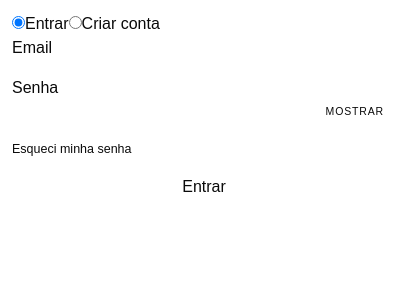
Scenario: LoginForm — modo Entrar › clicar em "Confirmar cadastro" abre a tela de confirmação com o email do login e dispara reenvio automático
In the field labelled "Email": (156, 48) [52,36,259,60], type "neto@email.com"
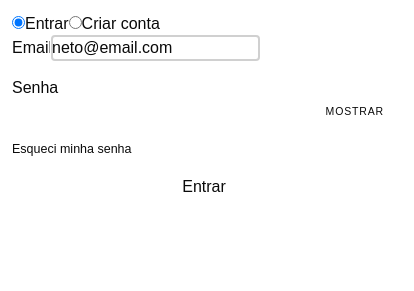
In the password field labelled "Senha": (204, 112) [12,100,396,124], type "Senha123"
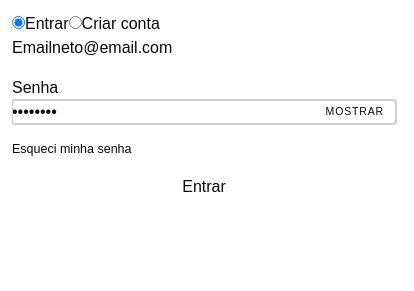
Click the button "Entrar": (204, 187) [12,175,396,199]
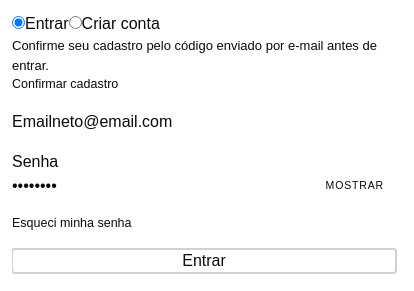
Click the button "Confirmar cadastro": (65, 84) [12,75,118,94]
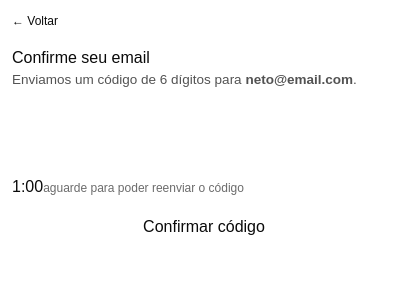
Now the text "Enviamos um código de 6 dígitos para neto@email.com." is shown, box [12,70,396,91]
Now the text "neto@email.com" is shown, box [245,72,353,87]
